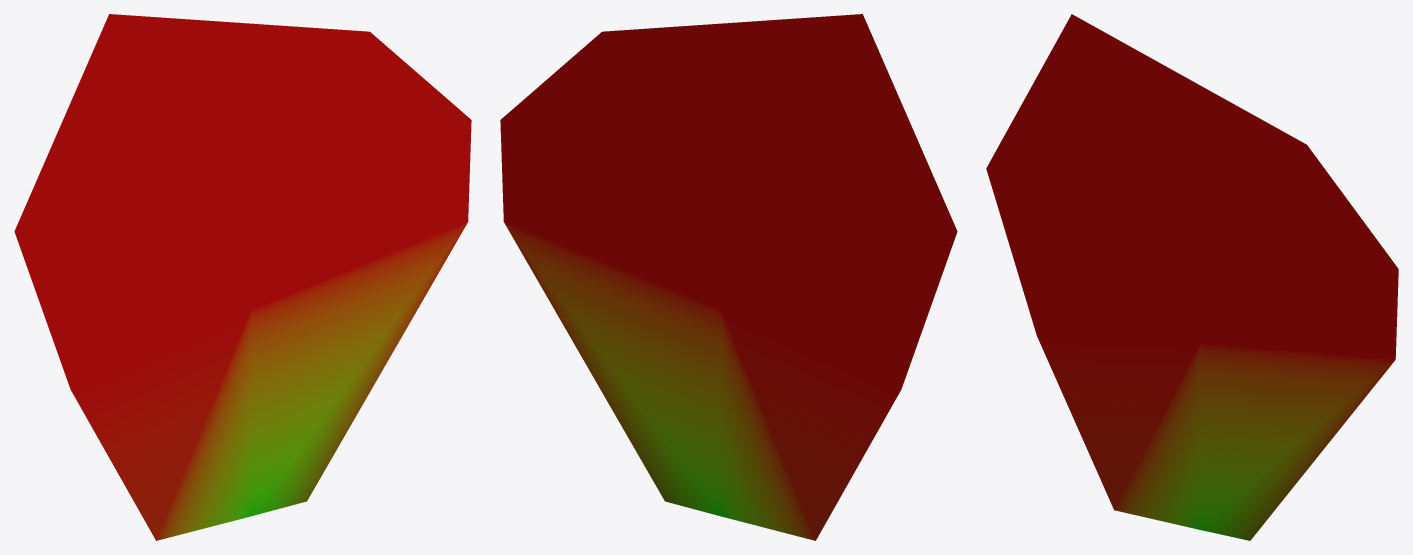
File: European Spindle_LOD4_Var11.fbx
3 views of the same model, side by side, from view 1: azimuth 30°, elevation 25°; view 2: azimuth 150°, elevation 25°; view 3: azimuth 330°, elevation 25° (orthographic). The views are drawn at different scales.
Parts seen in each view (by area): view 1: _83gz_Var11_LOD4; view 2: _83gz_Var11_LOD4; view 3: _83gz_Var11_LOD4.
Part boxes in pixels (left/top/right/bottom): _83gz_Var11_LOD4: left=14, top=14, right=471, bottom=540; _83gz_Var11_LOD4: left=500, top=14, right=957, bottom=540; _83gz_Var11_LOD4: left=986, top=14, right=1398, bottom=540.
Bounding box in the file's own units: 179 × 201 × 2.91e-11.
